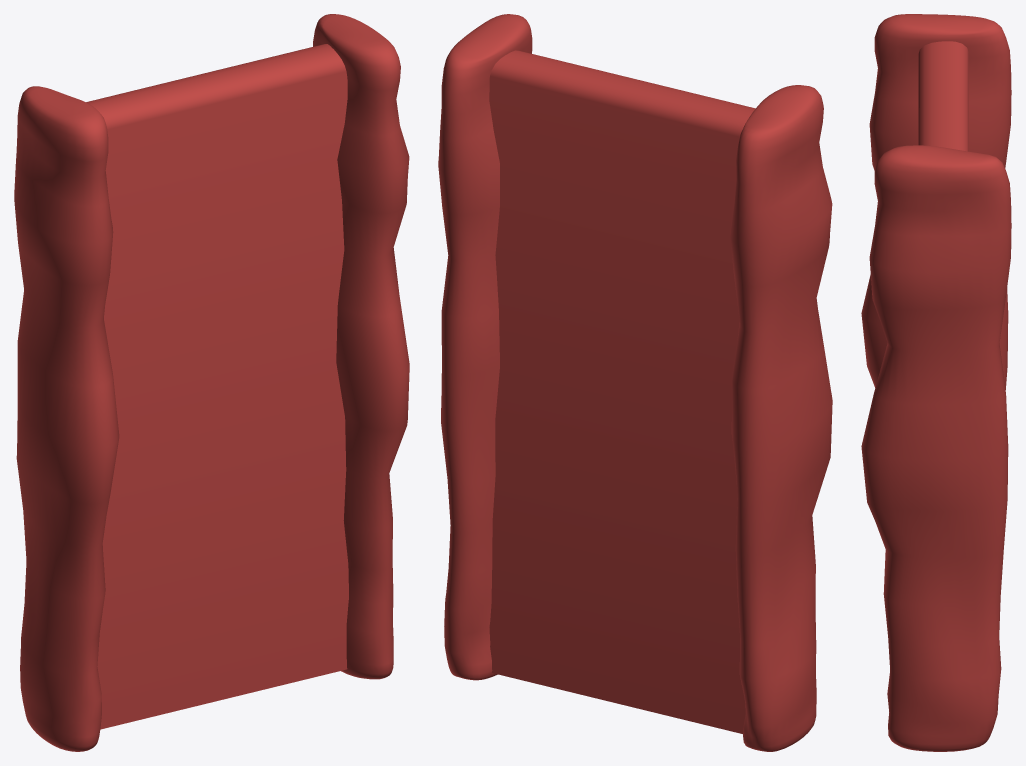
Rendered from Wall_1.fbx.
3 renders of one model, left to right at view 1: azimuth 30°, elevation 25°; view 2: azimuth 150°, elevation 25°; view 3: azimuth 270°, elevation 25°, orthographic. The views are drawn at different scales.
Parts seen in each view (by area): view 1: Wall_1; view 2: Wall_1; view 3: Wall_1.
Part boxes in pixels (x1,y1,x2,y2): Wall_1: (14, 14, 409, 751); Wall_1: (438, 14, 832, 751); Wall_1: (861, 14, 1011, 751).
Size of the model in its own units: 246 by 417 by 95.26.
